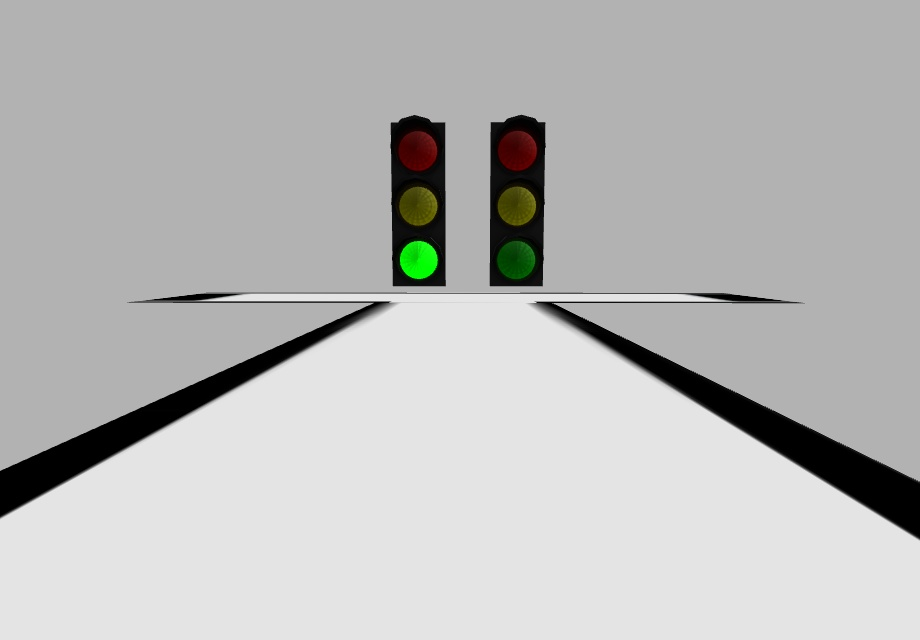green_off: (496, 242, 533, 283)
green_on: (399, 239, 438, 280)
